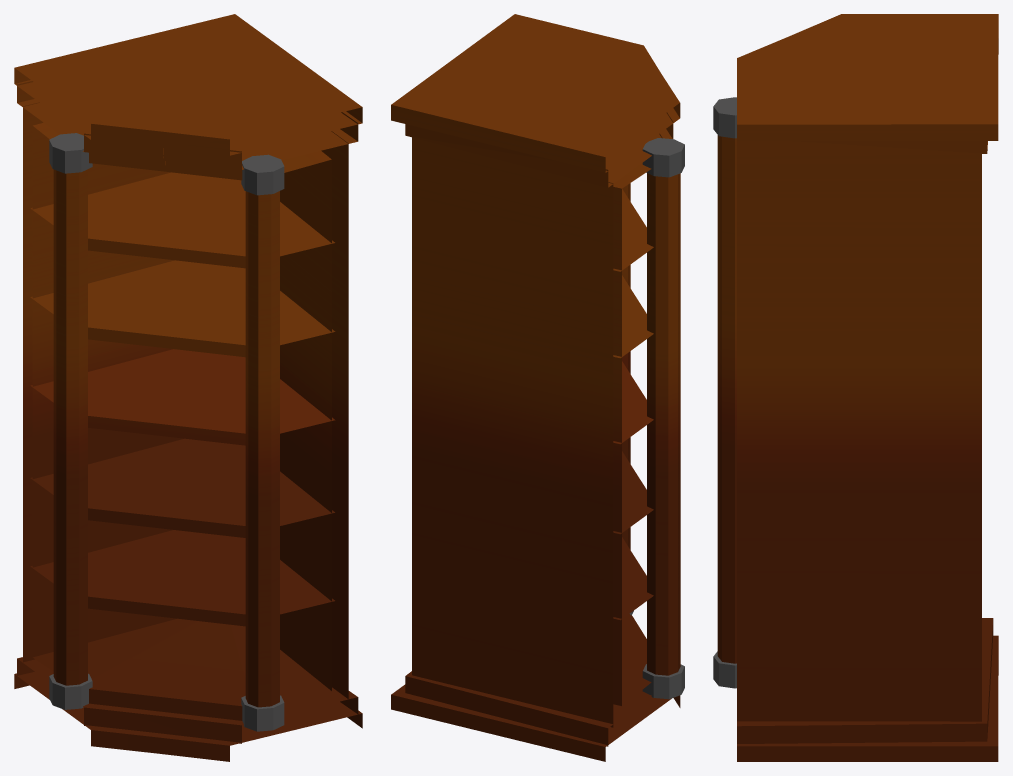
The model's file is Bookshelf 02 Center_01.c.fbx.
3 renders of one model, left to right at view 1: azimuth 30°, elevation 25°; view 2: azimuth 150°, elevation 25°; view 3: azimuth 270°, elevation 25°, orthographic. The views are drawn at different scales.
Visible parts, largest first — view 1: Bookshelf 02 Corner.c; view 2: Bookshelf 02 Corner.c; view 3: Bookshelf 02 Corner.c.
Part boxes in pixels (x1,y1,x2,y2): Bookshelf 02 Corner.c: (14, 14, 362, 761); Bookshelf 02 Corner.c: (391, 14, 684, 761); Bookshelf 02 Corner.c: (713, 14, 998, 761).
Bounding box in the file's own units: 108 × 267 × 108.
